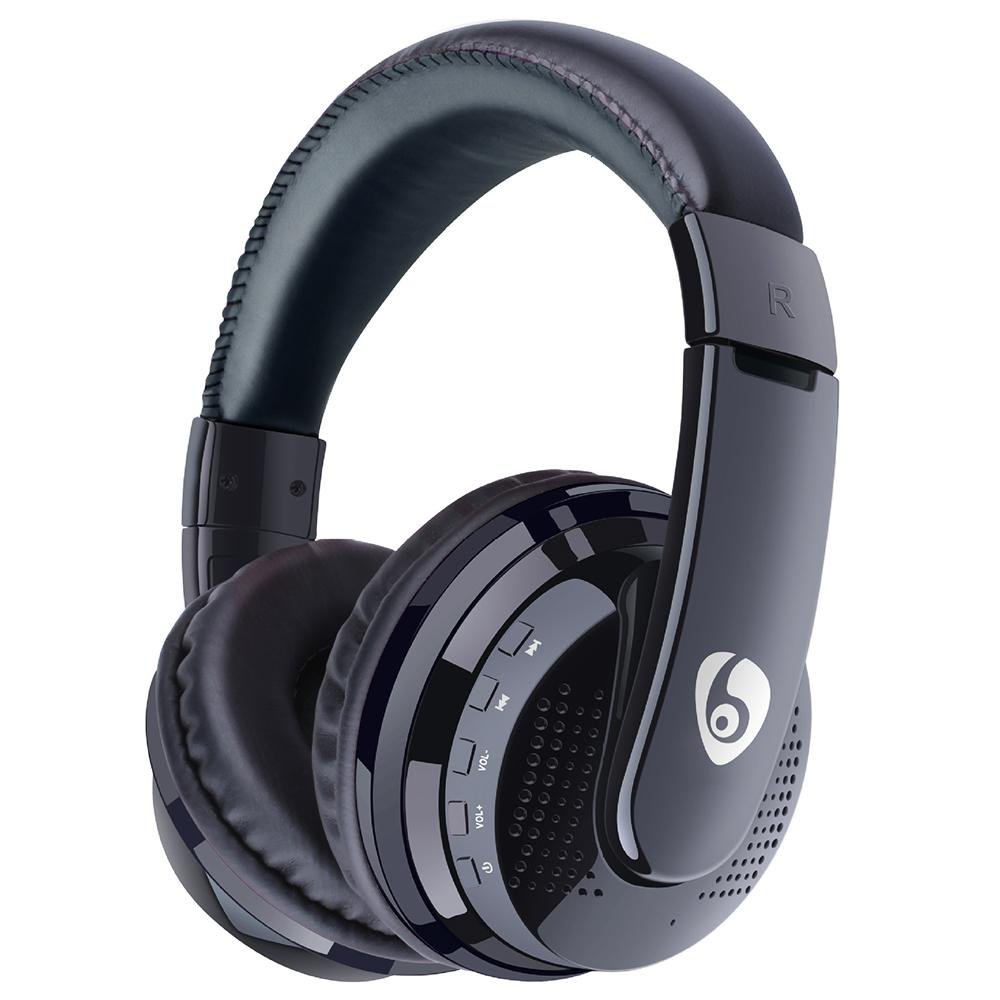Headphone: (133, 19, 847, 991)
